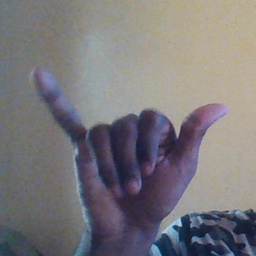J: (30, 62, 230, 231)
